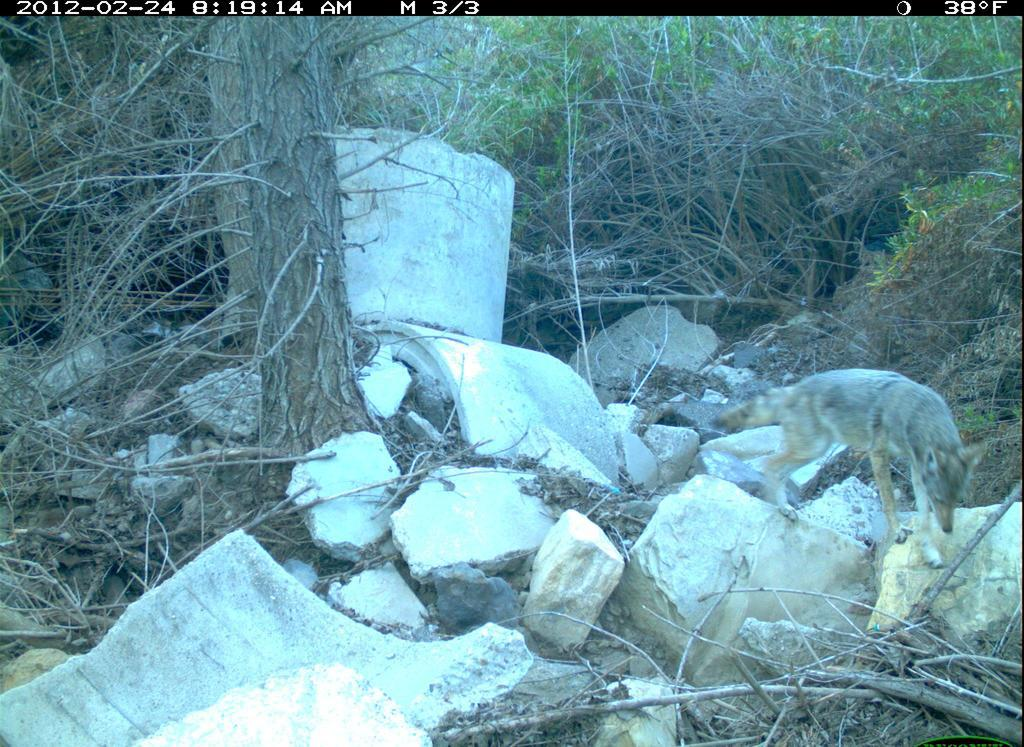coyote: (703, 365, 987, 577)
